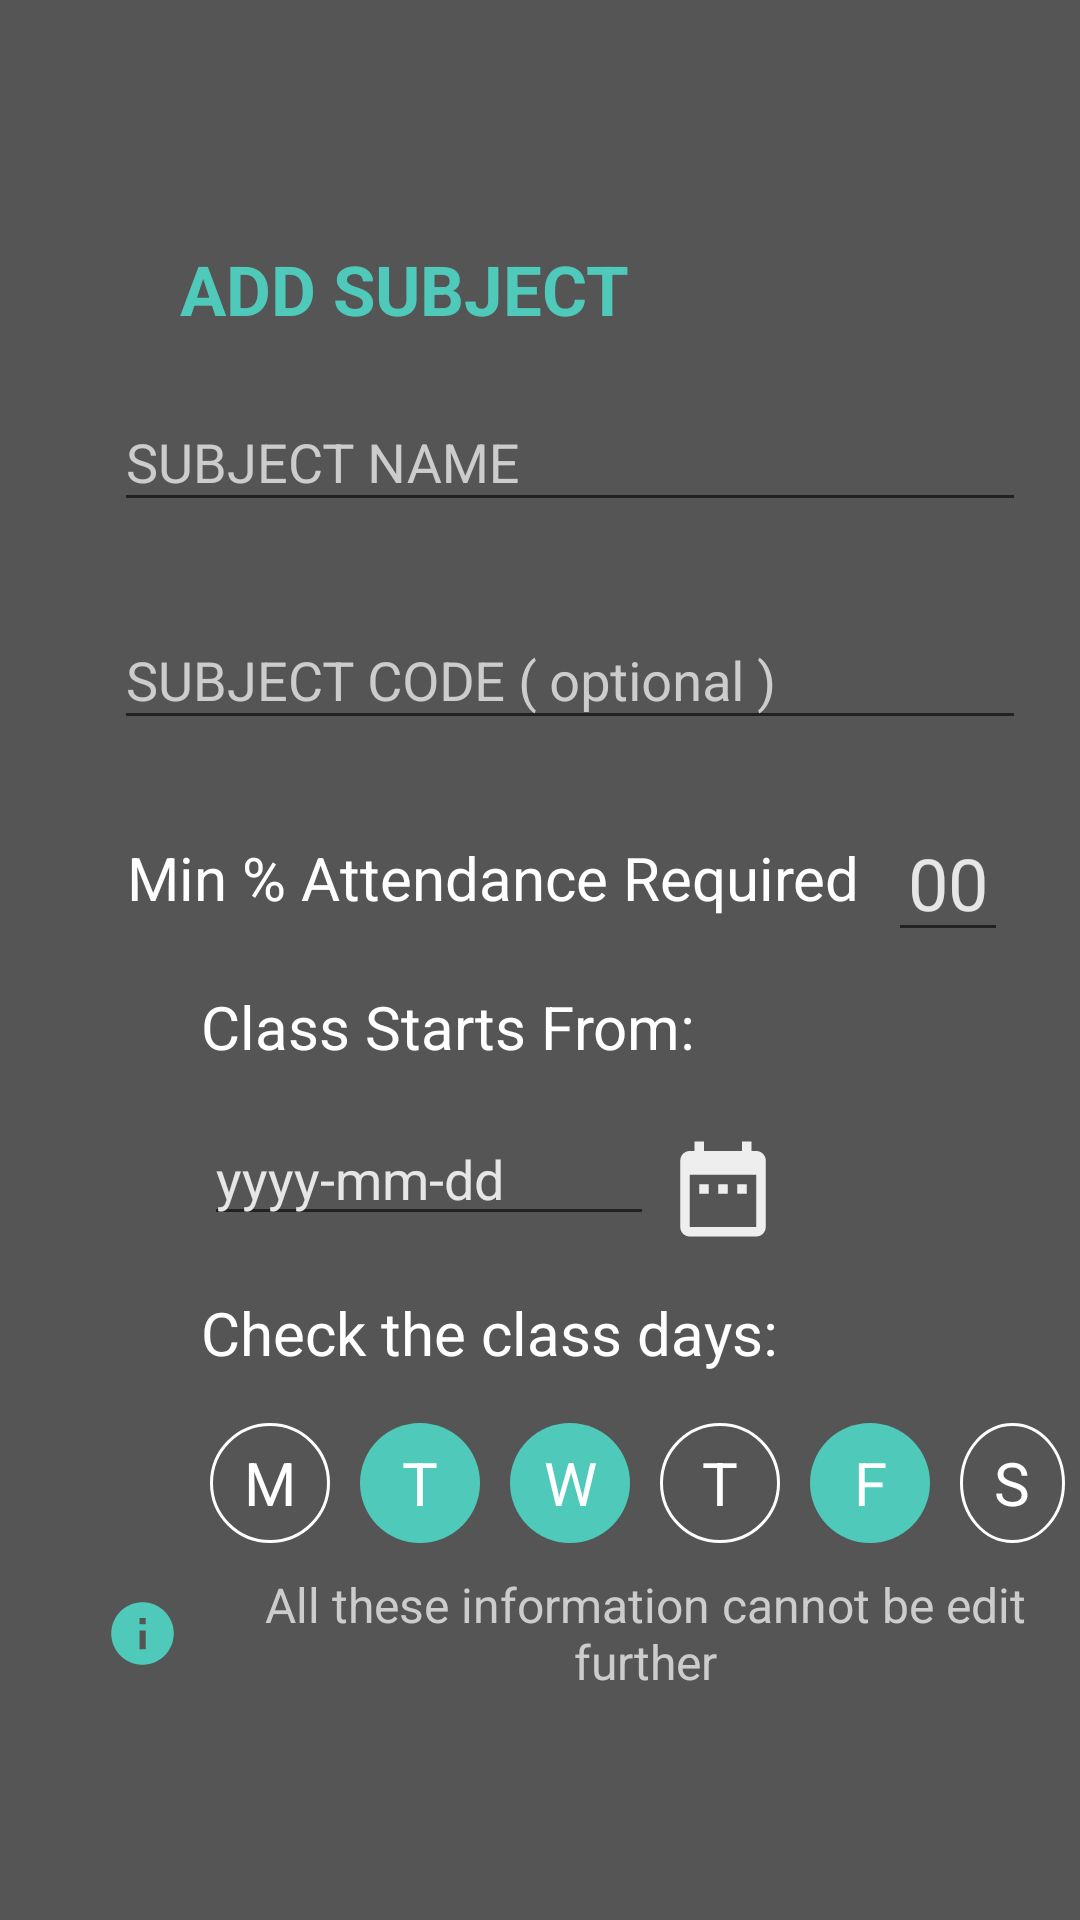

Locate icon controls on the screen. Image size 1080x1920, boxes as bbox(x1, y1, x2, y2).
calender: bbox(680, 1141, 766, 1237)
